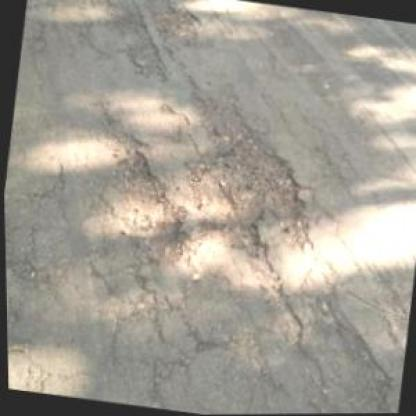pothole: (179, 129, 327, 265), (103, 146, 201, 266), (151, 0, 205, 50)
